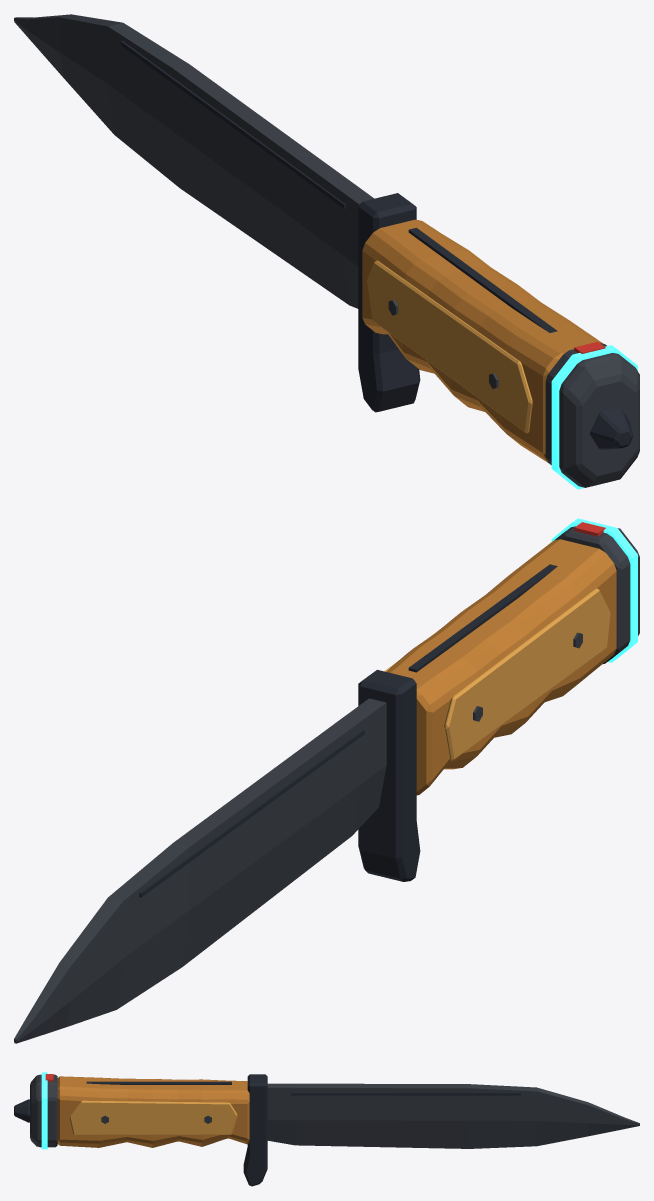
File: knife_fang_v_2.glb
3 renders of one model, top to bottom at view 1: azimuth 30°, elevation 25°; view 2: azimuth 150°, elevation 25°; view 3: azimuth 270°, elevation 25°, orthographic. The views are drawn at different scales.
Visible parts, largest first — view 1: blade, handle, handle_panel, pommel, guard, core_pommel, handle_groove, blade_groove, glass_breaker; view 2: blade, handle, handle_panel, guard, pommel, handle_groove, blade_groove, core_pommel; view 3: blade, handle, handle_panel, guard, pommel, blade_groove, handle_groove, core_pommel, glass_breaker.
Part boxes in pixels (x1=…): blade: x1=14, y1=14, x2=373, y2=308; handle: x1=362, y1=219, x2=602, y2=462; handle_panel: x1=367, y1=260, x2=532, y2=433; pommel: x1=545, y1=343, x2=639, y2=487; guard: x1=358, y1=193, x2=420, y2=412; core_pommel: x1=551, y1=345, x2=637, y2=489; handle_groove: x1=408, y1=227, x2=557, y2=332; blade_groove: x1=120, y1=40, x2=345, y2=208; glass_breaker: x1=590, y1=407, x2=632, y2=449; blade: x1=14, y1=698, x2=386, y2=1043; handle: x1=386, y1=539, x2=616, y2=795; handle_panel: x1=384, y1=588, x2=610, y2=760; guard: x1=358, y1=669, x2=420, y2=881; pommel: x1=554, y1=526, x2=639, y2=663; handle_groove: x1=408, y1=564, x2=557, y2=672; blade_groove: x1=139, y1=729, x2=364, y2=897; core_pommel: x1=551, y1=518, x2=637, y2=662; blade: x1=267, y1=1083, x2=639, y2=1148; handle: x1=57, y1=1076, x2=249, y2=1147; handle_panel: x1=69, y1=1100, x2=237, y2=1134; guard: x1=243, y1=1074, x2=267, y2=1186; pommel: x1=30, y1=1074, x2=57, y2=1147; blade_groove: x1=291, y1=1093, x2=520, y2=1095; handle_groove: x1=86, y1=1081, x2=231, y2=1084; core_pommel: x1=41, y1=1072, x2=47, y2=1149; glass_breaker: x1=14, y1=1099, x2=29, y2=1122.
Bounding box in the file's own units: 0.026 × 0.0586 × 0.316.
